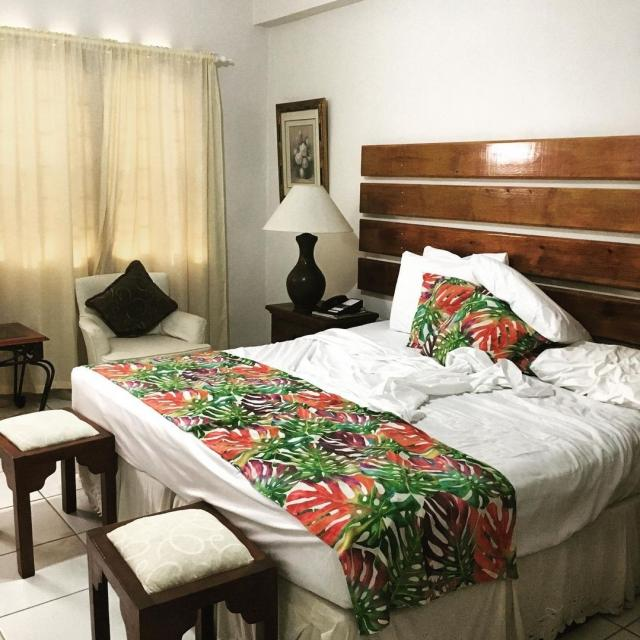bed: (67, 247, 640, 628)
